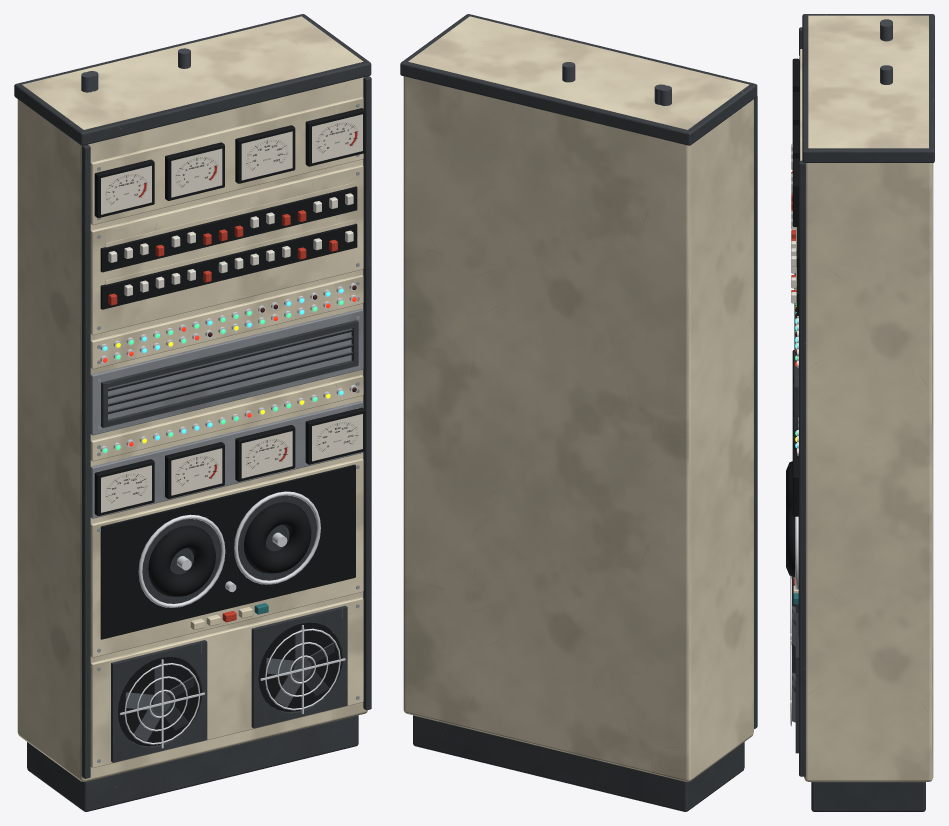
The model's file is Rack_90_2.glb.
3 renders of one model, left to right at view 1: azimuth 30°, elevation 25°; view 2: azimuth 150°, elevation 25°; view 3: azimuth 270°, elevation 25°, orthographic. The views are drawn at different scales.
Parts seen in each view (by area): view 1: Rack_90_2_Body; view 2: Rack_90_2_Body; view 3: Rack_90_2_Body.
Boxes of the visible parts, <box> form: Rack_90_2_Body: <box>14,14,371,811</box>; Rack_90_2_Body: <box>400,14,757,811</box>; Rack_90_2_Body: <box>786,14,934,811</box>.
Size of the model in its own units: 0.91 by 2.1 by 0.4155.
18 materials, 8 textured.
